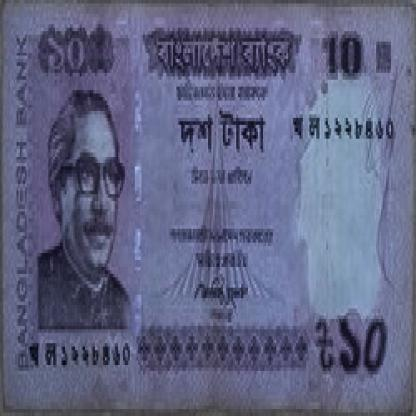Ten Taka: (332, 302, 398, 388), (43, 17, 105, 97), (312, 21, 370, 97)
